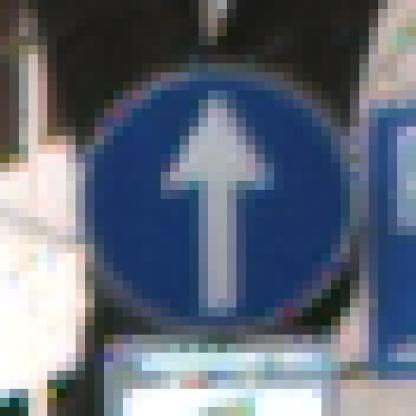AheadOnly: (48, 46, 370, 372)
